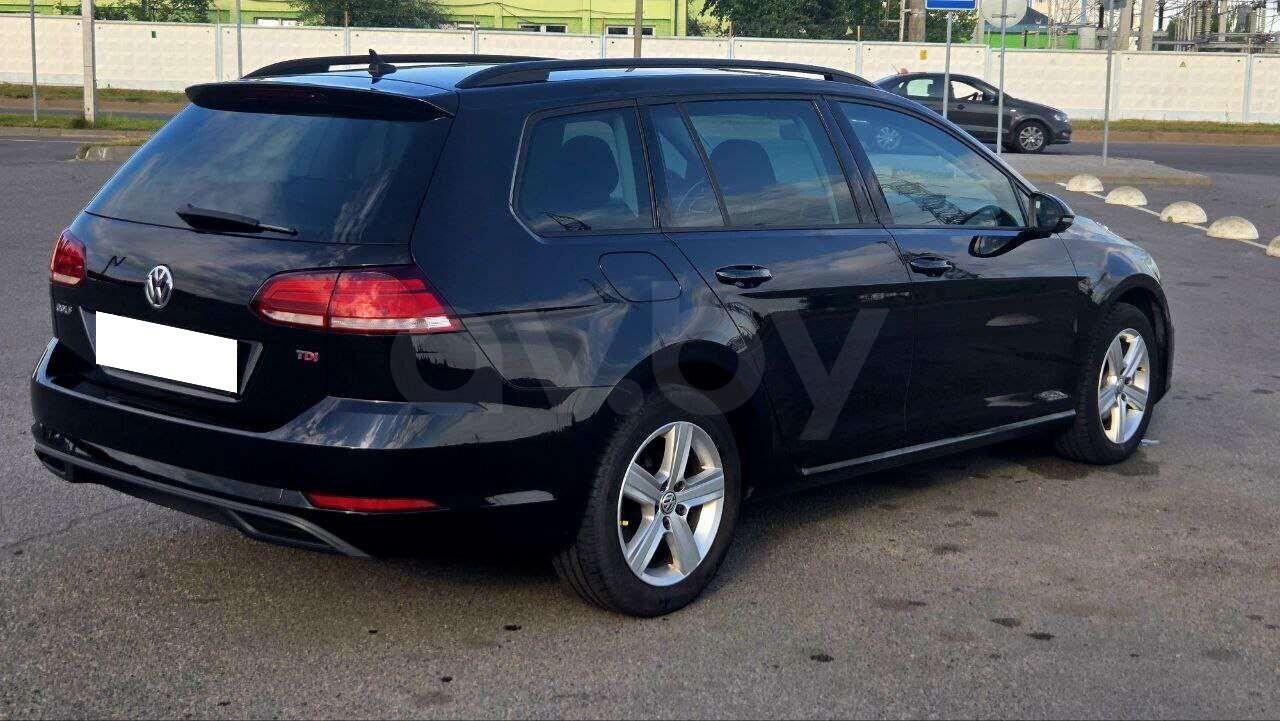Golf_2017-2021: (29, 56, 1178, 606)
